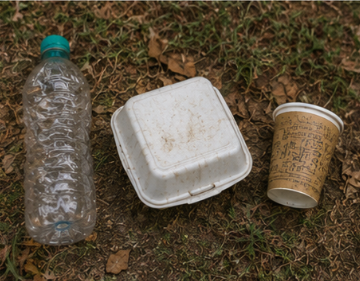cardboard: (110, 74, 254, 209)
paper: (268, 103, 344, 209)
plastic: (23, 34, 99, 247)
